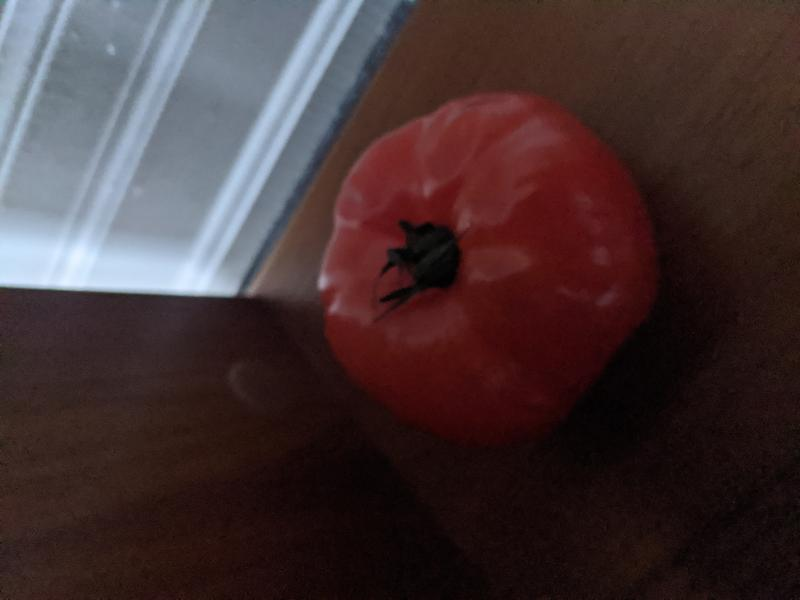tomato: (318, 90, 660, 447)
